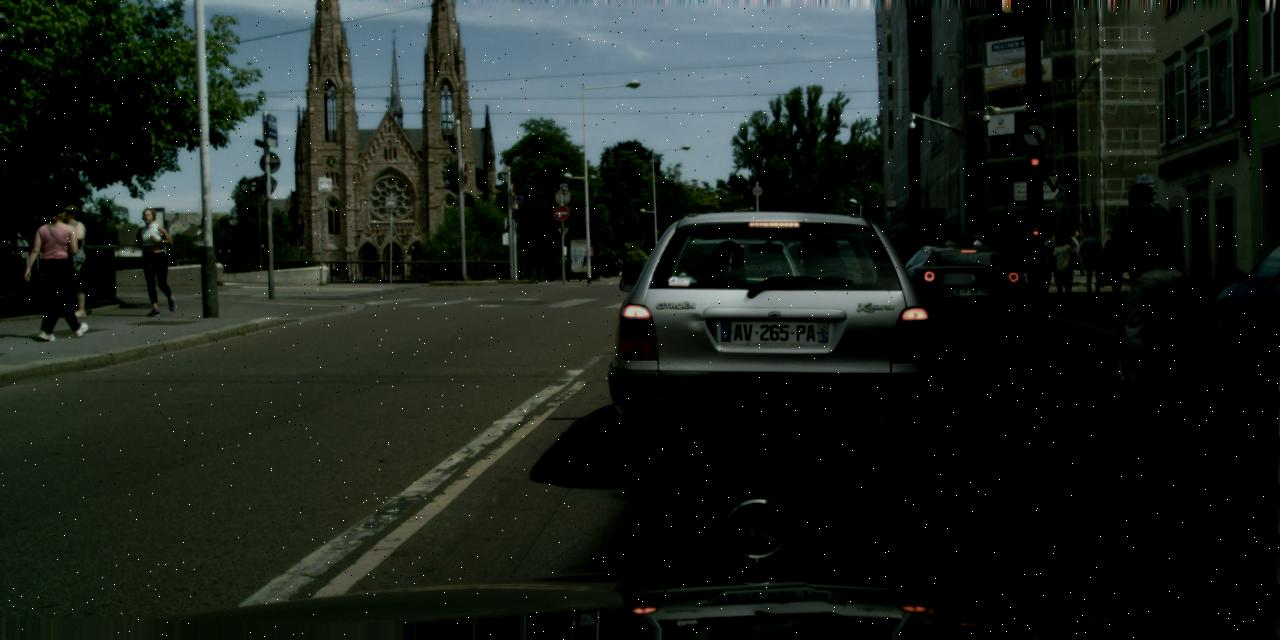ped: (1112, 183, 1188, 370), (33, 202, 88, 338), (49, 204, 94, 316), (134, 208, 178, 314), (1046, 222, 1078, 300), (1029, 229, 1059, 303), (1078, 226, 1107, 298), (1100, 229, 1128, 299), (1048, 234, 1076, 304), (969, 233, 988, 282), (1066, 230, 1084, 276), (940, 234, 958, 278), (614, 254, 624, 276)
